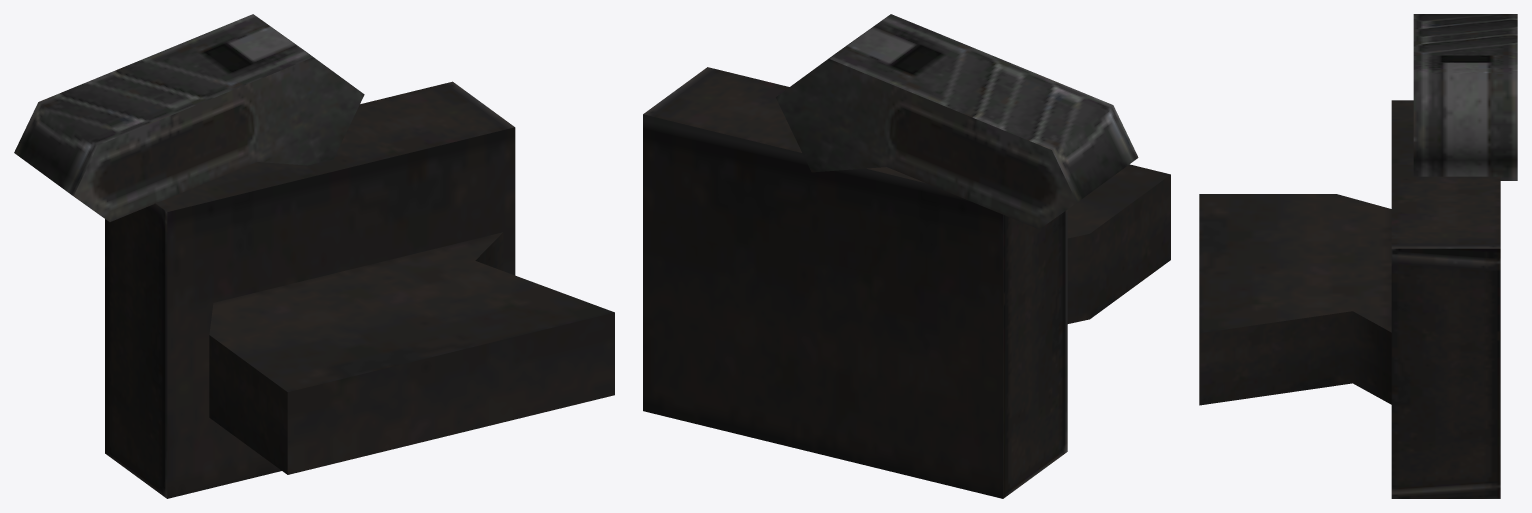
File: t6_attach_optic_dualband_mount_world_LOD1.obj
3 renders of one model, left to right at view 1: azimuth 30°, elevation 25°; view 2: azimuth 150°, elevation 25°; view 3: azimuth 270°, elevation 25°, orthographic. The views are drawn at different scales.
Visible parts, largest first — view 1: mtl_t6_attach_optic_dualband, mtl_t6_attach_optic_dualband_camo2; view 2: mtl_t6_attach_optic_dualband, mtl_t6_attach_optic_dualband_camo2; view 3: mtl_t6_attach_optic_dualband, mtl_t6_attach_optic_dualband_camo2.
Boxes of the visible parts, <box> form: mtl_t6_attach_optic_dualband: <box>73,57,614,498</box>; mtl_t6_attach_optic_dualband_camo2: <box>14,14,354,195</box>; mtl_t6_attach_optic_dualband: <box>643,59,1170,498</box>; mtl_t6_attach_optic_dualband_camo2: <box>782,14,1138,202</box>; mtl_t6_attach_optic_dualband: <box>1199,100,1500,498</box>; mtl_t6_attach_optic_dualband_camo2: <box>1413,14,1517,180</box>.
Bounding box in the file's own units: 4.61 × 4.04 × 3.39.
